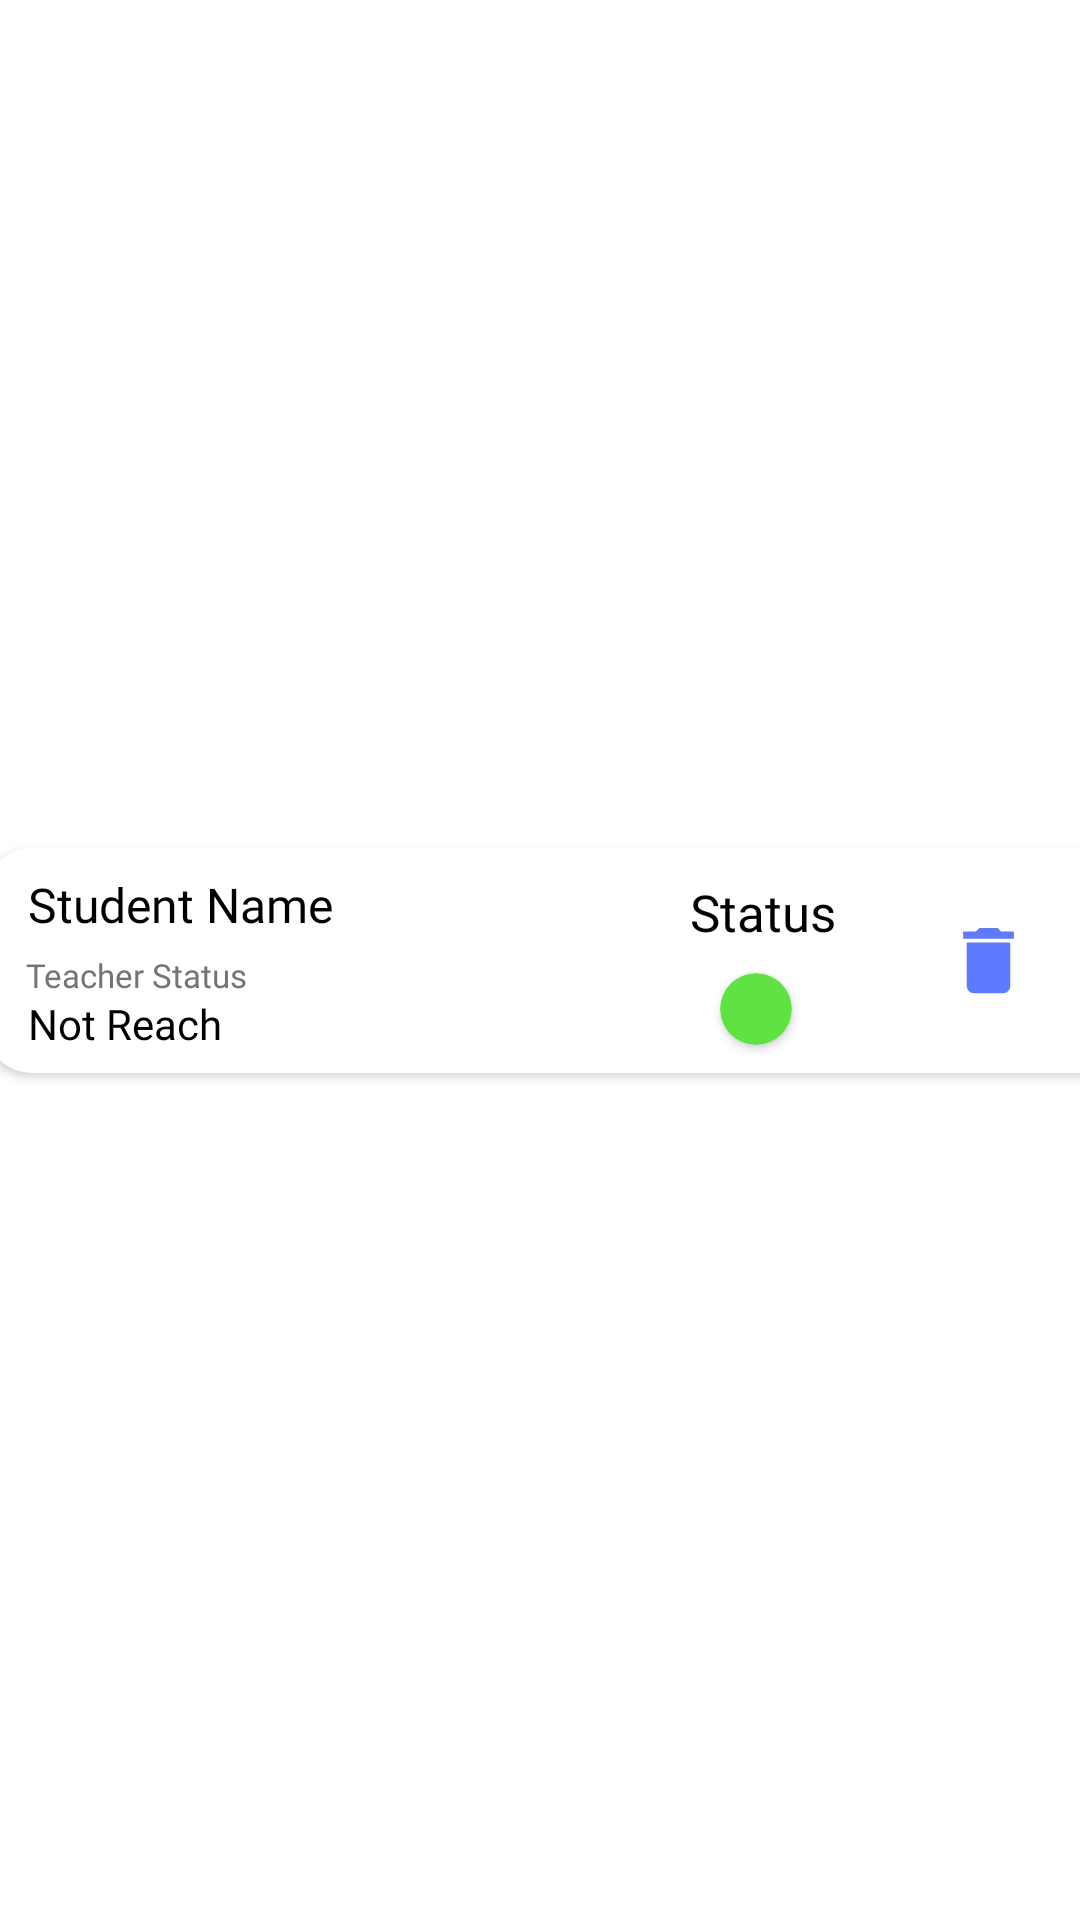

Icons on this 1080*1920 Android screen, each with its box as [left=x1, top=y1, right=x2, bottom=y2]:
delete: [left=963, top=928, right=1014, bottom=994]
